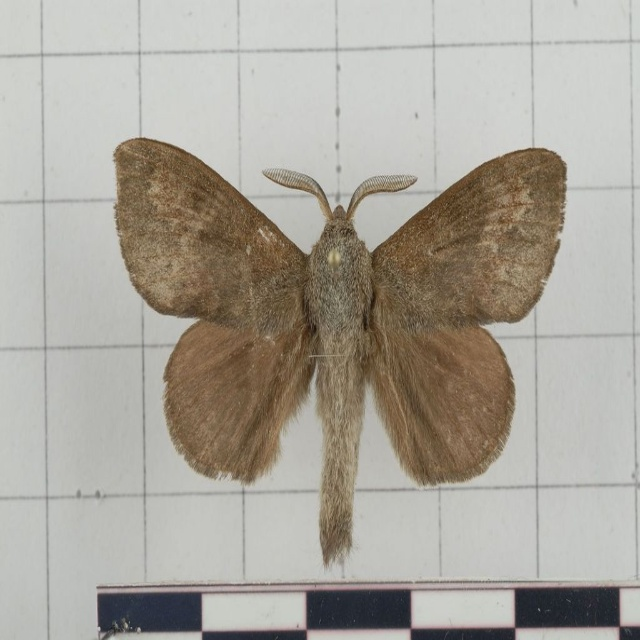Butterfly: (113, 127, 560, 535)
